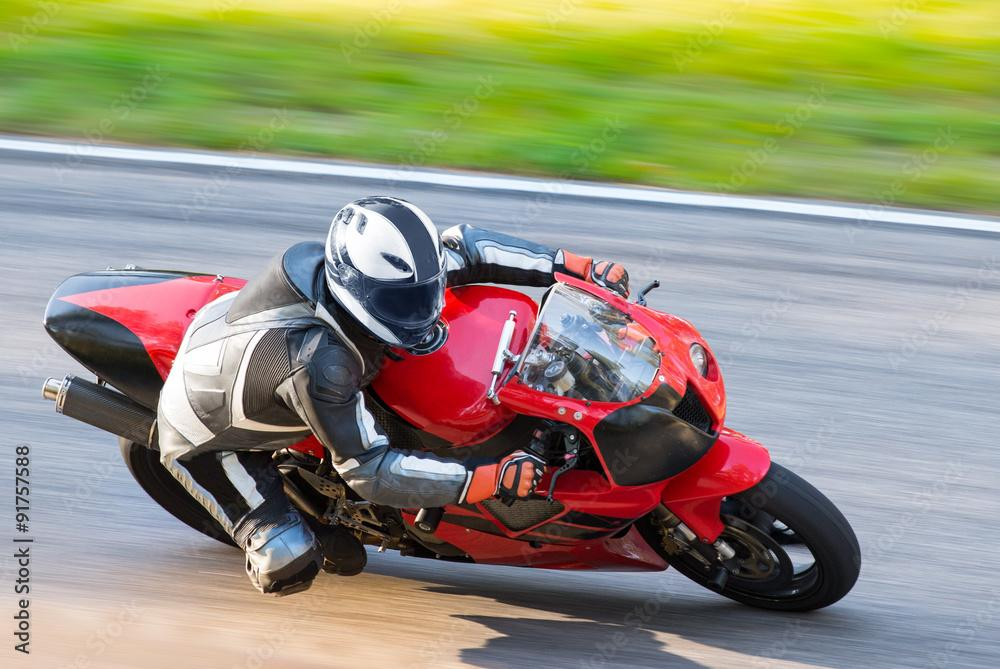helmet: (323, 195, 449, 350)
